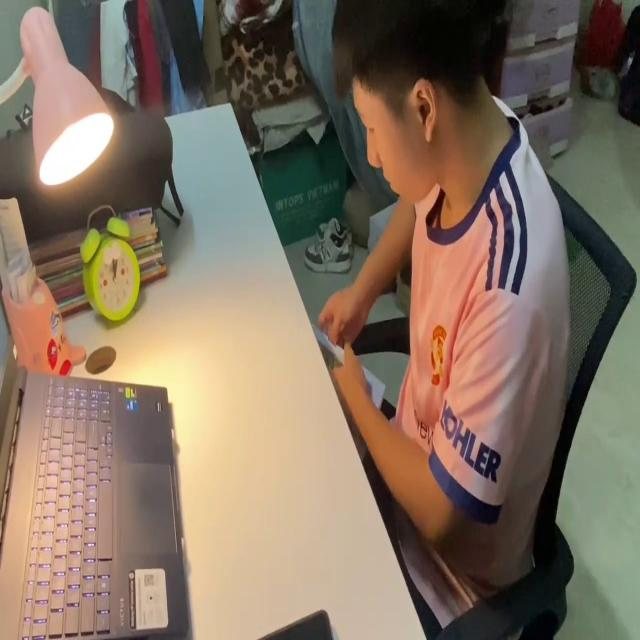book: (308, 327, 386, 434)
laptop: (0, 284, 184, 640)
phone: (259, 607, 335, 640)
student: (321, 0, 570, 606)
